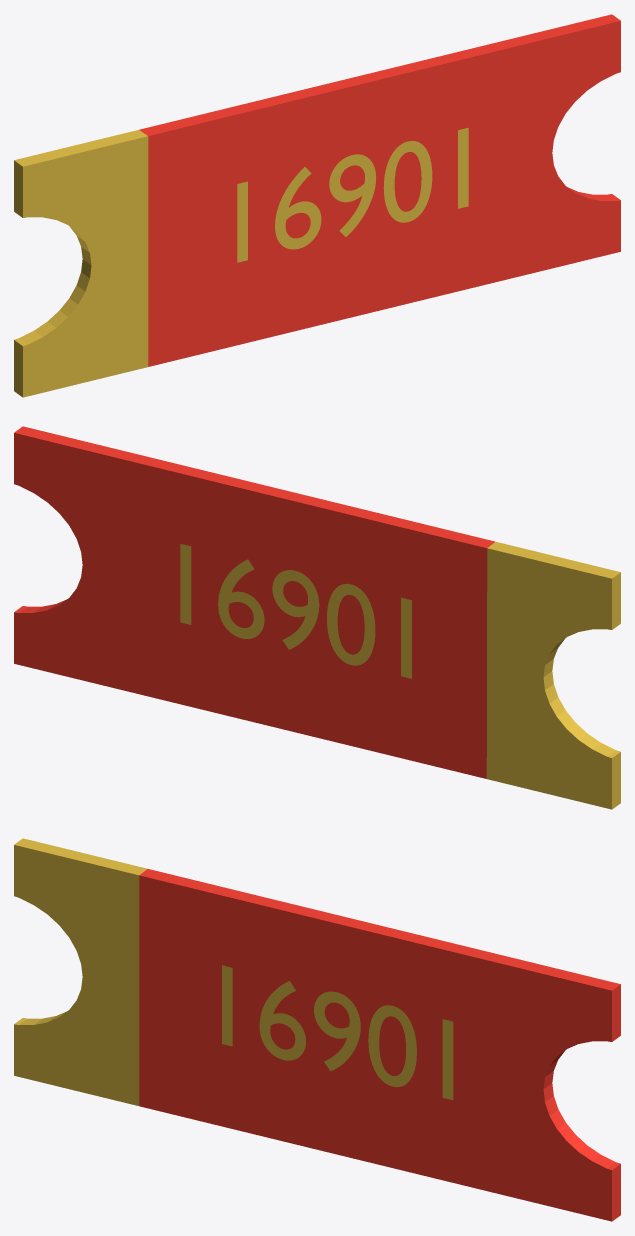
File: foodcoupon2.glb
The picture shows the model from 3 angles, top to bottom: view 1: azimuth 30°, elevation 25°; view 2: azimuth 150°, elevation 25°; view 3: azimuth 330°, elevation 25°; orthographic projection.
Parts seen in each view (by area): view 1: Text.009; view 2: Text.009; view 3: Text.009.
Part boxes in pixels (left/top/right/bottom): Text.009: left=14, top=14, right=620, bottom=397; Text.009: left=14, top=426, right=620, bottom=809; Text.009: left=14, top=838, right=620, bottom=1221.
Size of the model in its own units: 5.42 by 2 by 0.2516.
